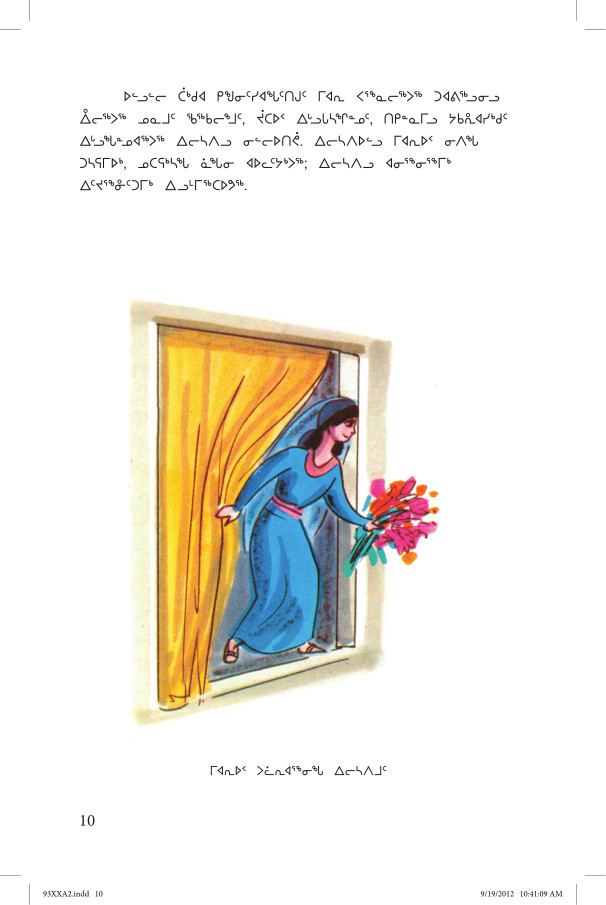inuktitut: (70, 79, 517, 199), (202, 757, 389, 782)
